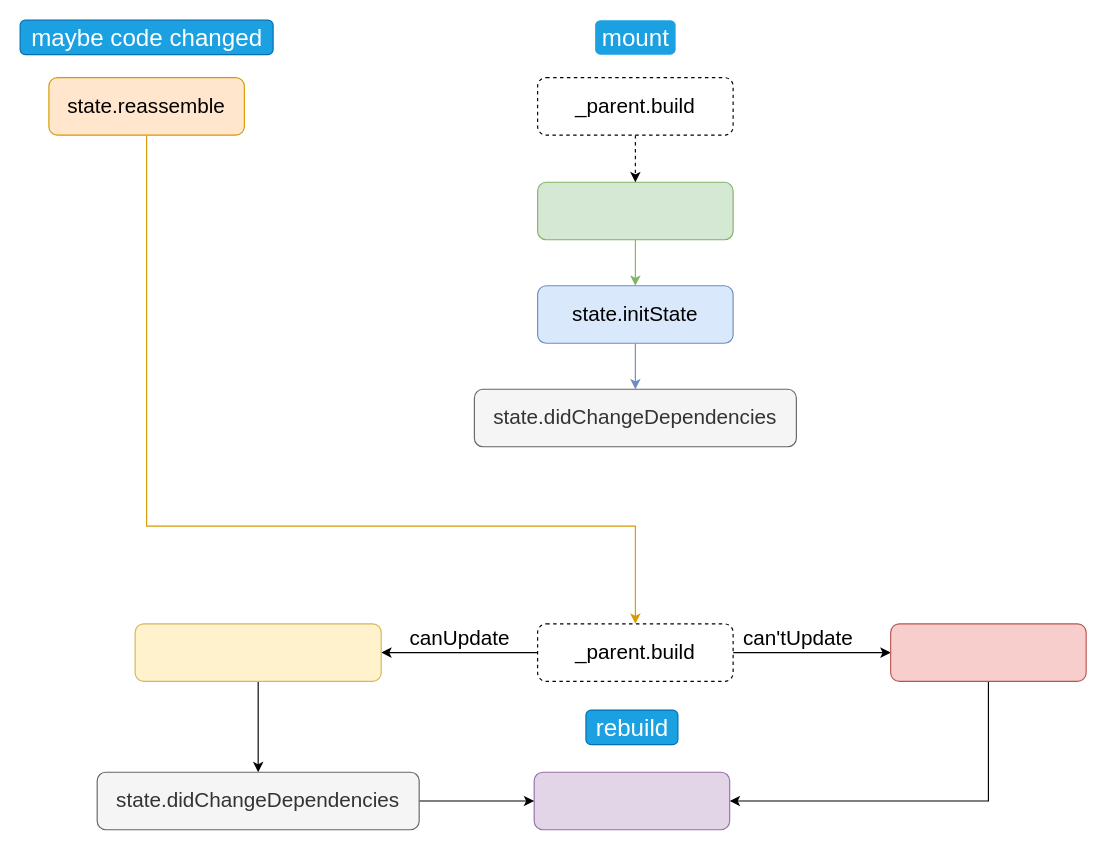
The diagram is 1106 pixels wide and 850 high, and some of its shapes have lost their labels. The centre of each missing label's shape, as x and y in pixels:
state.deactivate: the point at 988,652
state.didUpdateWidget: the point at 257,652
state.dispose: the point at 631,800
widget.createState: the point at 634,210
